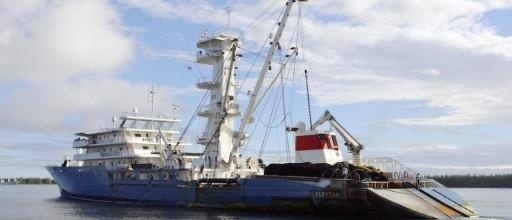otherboat: (44, 31, 505, 219)
